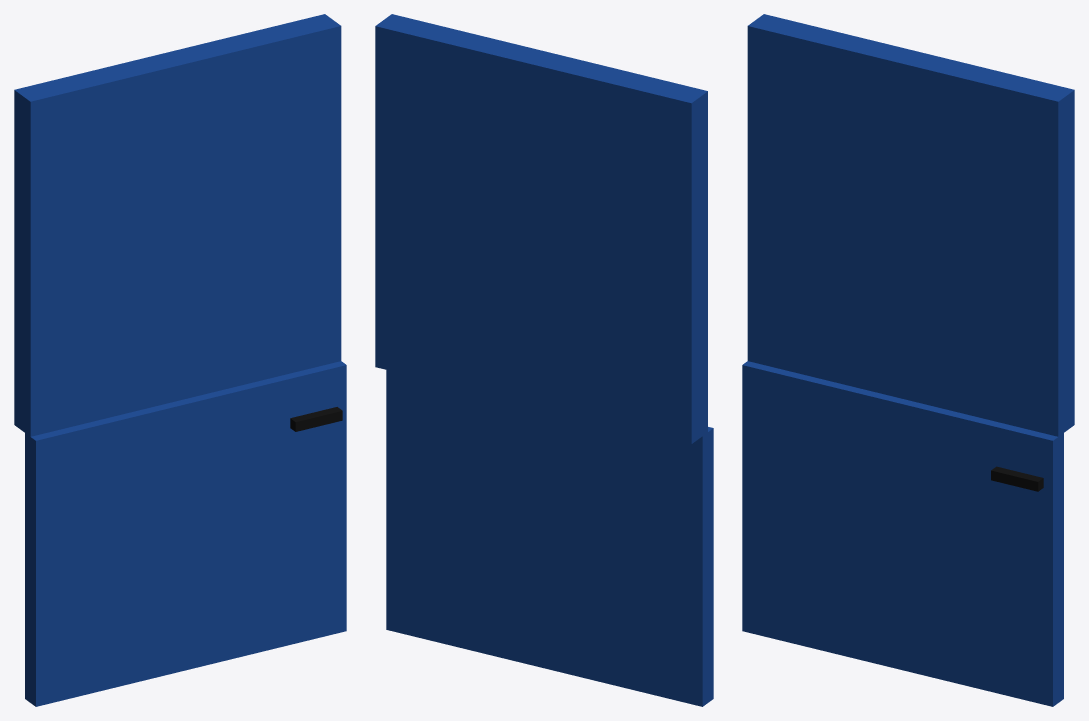
Rendered from high_roof_van_side_door.glb.
3 views of the same model, side by side, from view 1: azimuth 30°, elevation 25°; view 2: azimuth 150°, elevation 25°; view 3: azimuth 330°, elevation 25° (orthographic).
Visible parts, largest first — view 1: body:compound; view 2: body:compound; view 3: body:compound.
Part boxes in pixels (bbox=[...]): body:compound: bbox=[14, 14, 346, 706]; body:compound: bbox=[375, 14, 713, 706]; body:compound: bbox=[742, 14, 1074, 706].
Bounding box in the file's own units: 1.03 × 1.91 × 0.1562.
